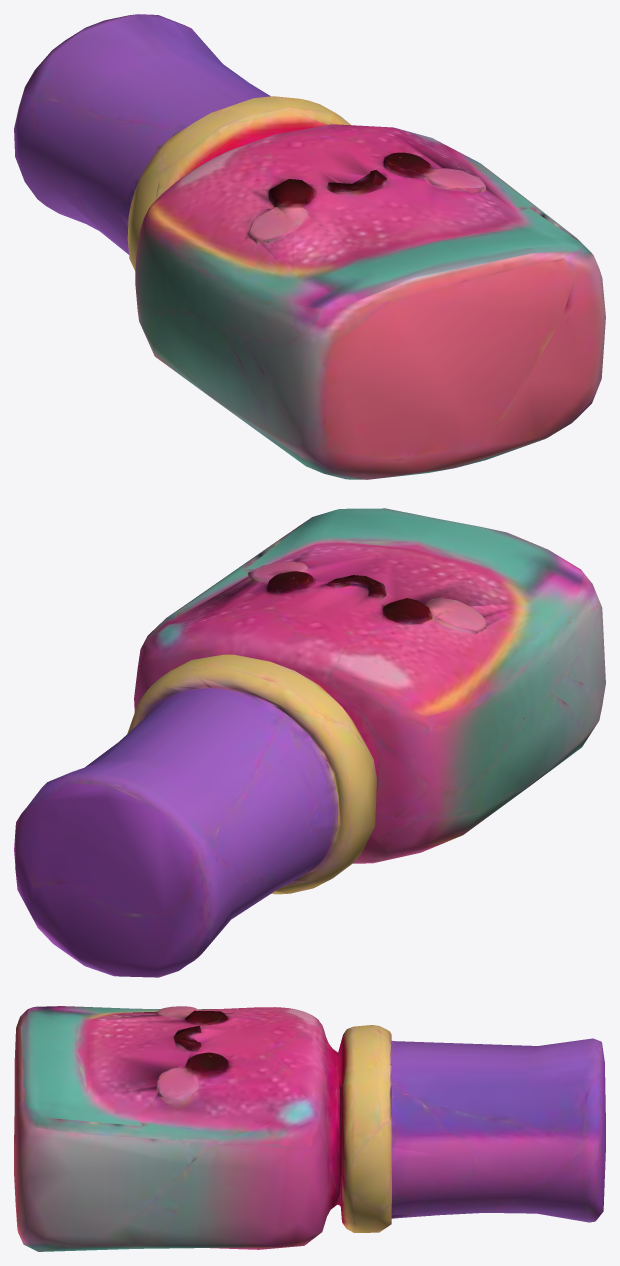
The picture shows the model from 3 angles, top to bottom: view 1: azimuth 30°, elevation 25°; view 2: azimuth 150°, elevation 25°; view 3: azimuth 270°, elevation 25°; orthographic projection. The views are drawn at different scales.
Parts seen in each view (by area): view 1: material; view 2: material; view 3: material.
Boxes of the visible parts, box(x1,y1,x2,y2) form: material: box(14, 14, 605, 479); material: box(14, 508, 605, 977); material: box(14, 1006, 605, 1251).
Bounding box in the file's own units: 0.539 × 0.3461 × 1.
Materials: 1 (1 with a texture image).
